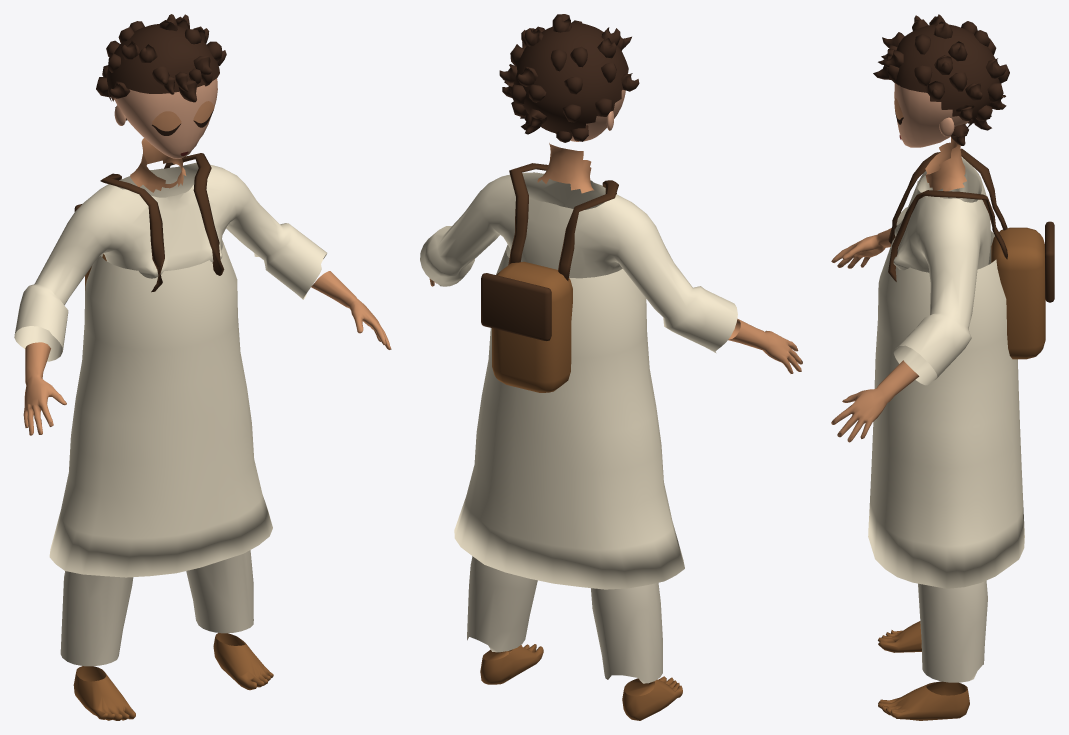
Rendered from player.fbx.
The picture shows the model from 3 angles, left to right: view 1: azimuth 30°, elevation 25°; view 2: azimuth 150°, elevation 25°; view 3: azimuth 270°, elevation 25°; orthographic projection. The views are drawn at different scales.
Visible parts, largest first — view 1: player_mixamo; view 2: player_mixamo; view 3: player_mixamo.
Part boxes in pixels (left/top/right/bottom): player_mixamo: left=14, top=14, right=391, bottom=720; player_mixamo: left=420, top=14, right=802, bottom=720; player_mixamo: left=831, top=14, right=1054, bottom=720.
Size of the model in its own units: 0.7062 by 1.25 by 0.3822.
